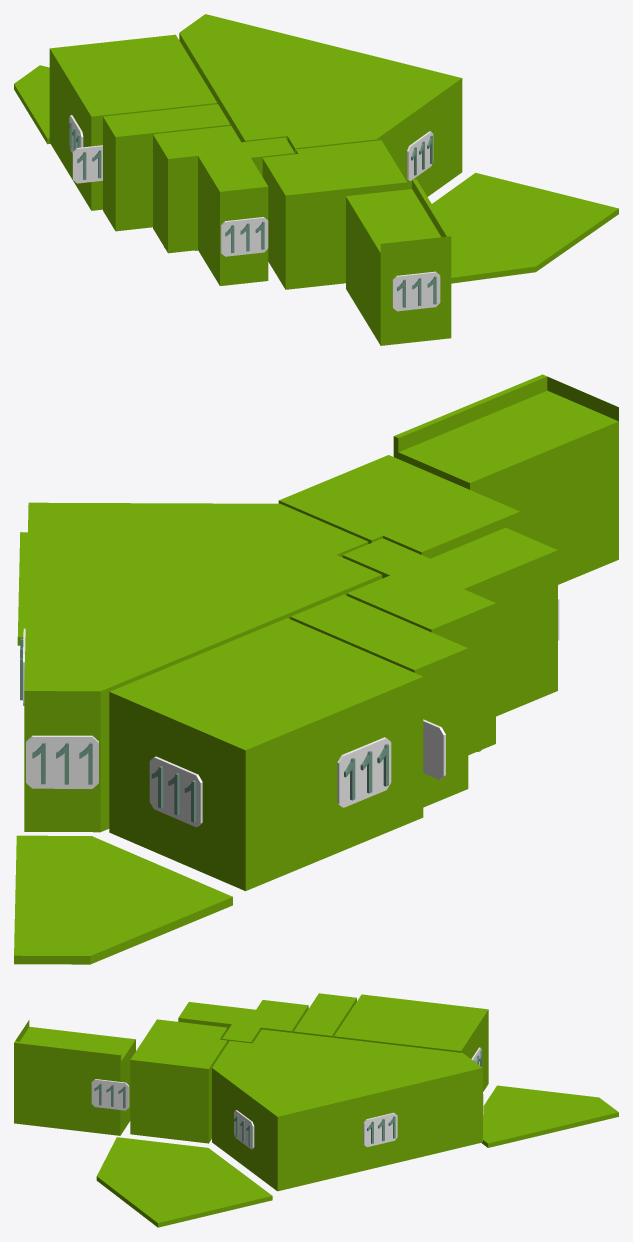
The picture shows the model from 3 angles, top to bottom: view 1: azimuth 30°, elevation 25°; view 2: azimuth 150°, elevation 25°; view 3: azimuth 270°, elevation 25°; orthographic projection. The views are drawn at different scales.
Visible parts, largest first — view 1: g_0, g_3, g_4, g_1, g_5, g_6, g_2, g_7, g_11, g_43, g_15, g_23; view 2: g_1, g_0, g_5, g_3, g_7, g_4, g_2, g_35, g_31, g_27, g_15, g_6; view 3: g_0, g_5, g_6, g_4, g_1, g_7, g_3, g_2, g_19, g_39, g_23.
Boxes of the visible parts, x1,y1,x2,y2 form: g_0: [179, 14, 462, 196]; g_3: [153, 126, 294, 285]; g_4: [262, 140, 407, 289]; g_1: [49, 34, 217, 210]; g_5: [346, 179, 451, 345]; g_6: [432, 172, 618, 283]; g_2: [103, 104, 230, 231]; g_7: [14, 65, 50, 144]; g_11: [220, 217, 268, 256]; g_43: [392, 271, 440, 311]; g_15: [72, 145, 102, 183]; g_23: [407, 131, 433, 180]; g_1: [109, 618, 423, 891]; g_0: [24, 502, 382, 832]; g_5: [393, 374, 618, 584]; g_3: [342, 527, 557, 755]; g_7: [14, 835, 232, 964]; g_4: [278, 455, 520, 558]; g_2: [290, 594, 468, 807]; g_35: [26, 735, 98, 788]; g_31: [149, 756, 202, 827]; g_27: [337, 737, 391, 807]; g_15: [423, 719, 445, 779]; g_6: [17, 532, 27, 645]; g_0: [212, 1029, 482, 1191]; g_5: [14, 1020, 135, 1135]; g_6: [96, 1137, 272, 1227]; g_4: [130, 1019, 227, 1143]; g_1: [334, 994, 488, 1091]; g_7: [481, 1085, 618, 1147]; g_3: [178, 1000, 308, 1043]; g_2: [293, 993, 356, 1037]; g_19: [91, 1079, 129, 1110]; g_39: [363, 1112, 397, 1147]; g_23: [234, 1110, 254, 1149].
Size of the model in its own units: 11.51 by 2.85 by 18.35.
